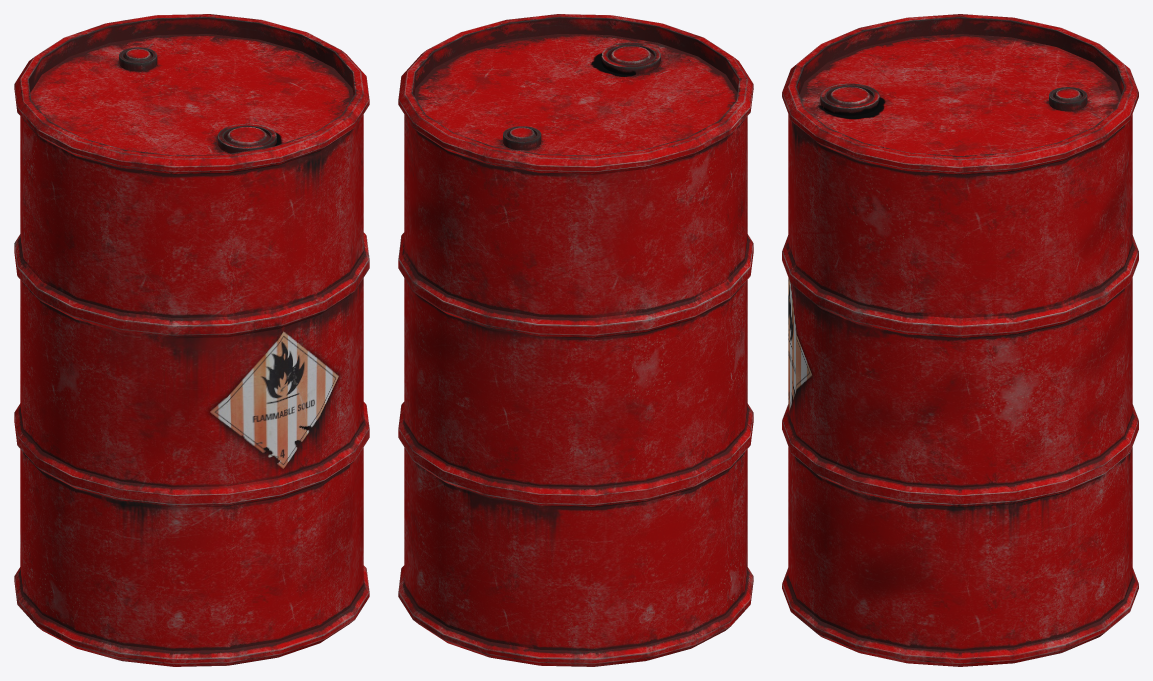
3 views of the same model, side by side, from view 1: azimuth 30°, elevation 25°; view 2: azimuth 150°, elevation 25°; view 3: azimuth 270°, elevation 25° (orthographic).
Parts seen in each view (by area): view 1: metalBarrel; view 2: metalBarrel; view 3: metalBarrel.
Boxes of the visible parts, x1,y1,x2,y2 form: metalBarrel: (14,14,369,666); metalBarrel: (398,14,753,666); metalBarrel: (782,14,1138,666).
Size of the model in its own units: 0.6196 by 0.9723 by 0.6196.
Materials: 1 (1 with a texture image).
